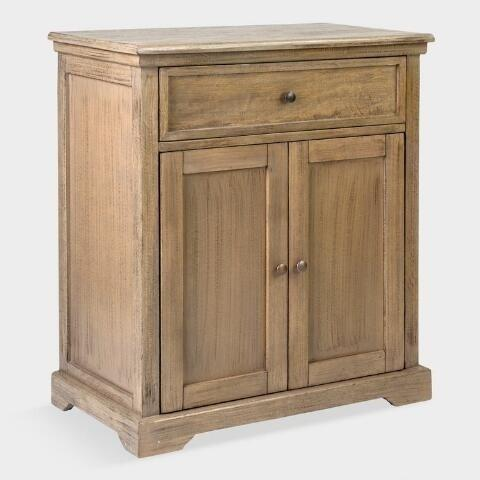cabinet_door: (160, 148, 287, 407), (289, 140, 404, 386), (164, 66, 409, 134)
handle: (279, 87, 299, 110), (294, 256, 306, 278), (274, 260, 285, 280)
